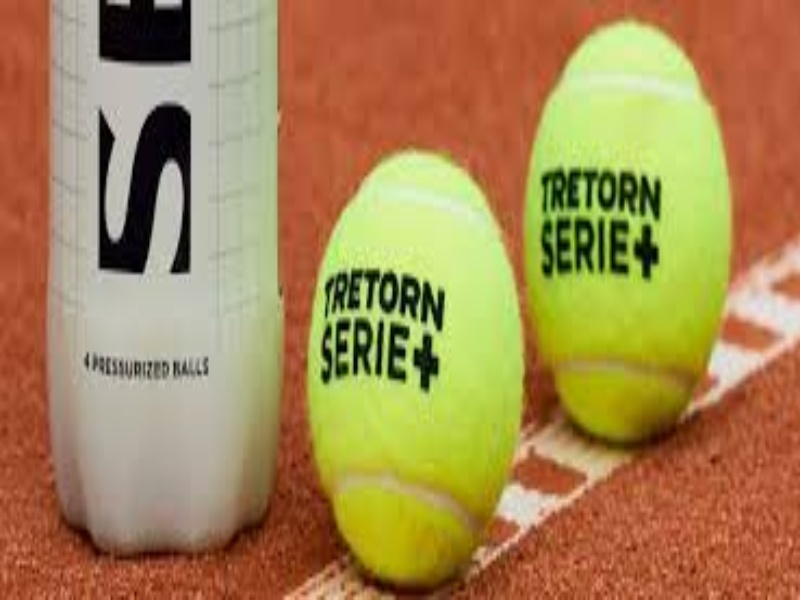tennis ball: (523, 15, 757, 464), (316, 136, 535, 600)
